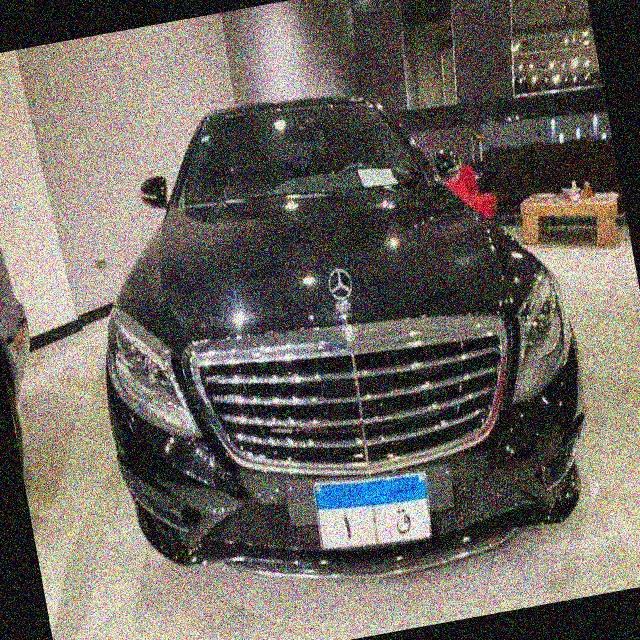License Plate: (307, 461, 441, 565)
